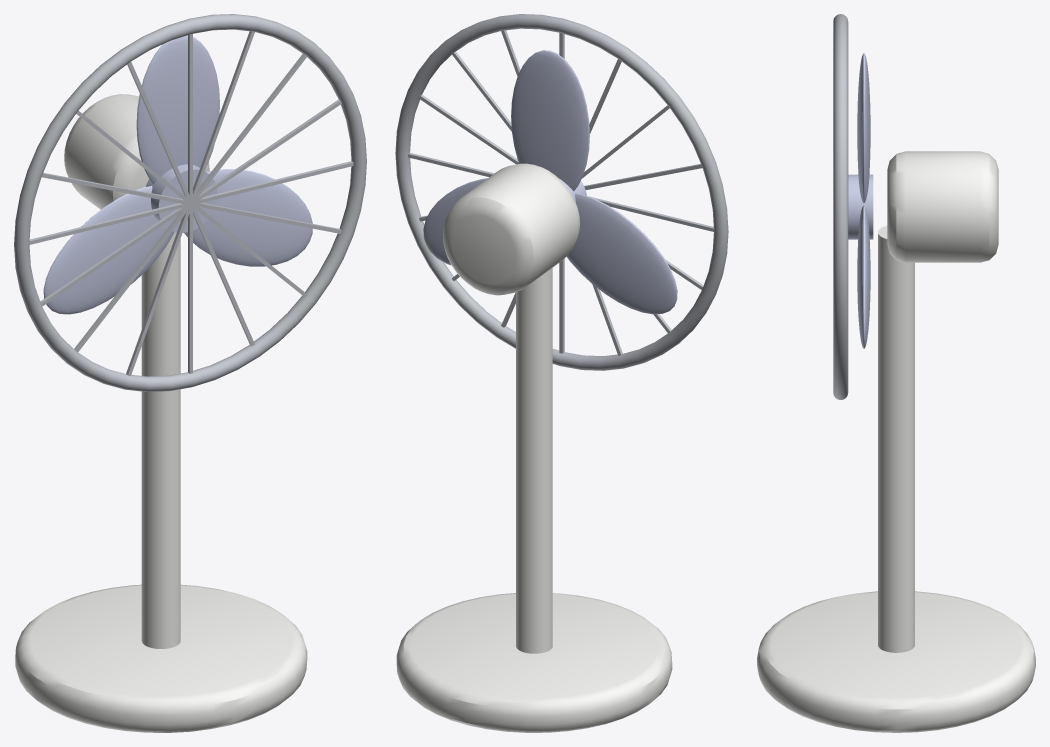
File: fan.glb
The picture shows the model from 3 angles, left to right: view 1: azimuth 30°, elevation 25°; view 2: azimuth 150°, elevation 25°; view 3: azimuth 270°, elevation 25°; orthographic projection. The views are drawn at different scales.
Visible parts, largest first — view 1: base.004, cage, pole.001, blade0, blade2, blade1, motor.001, wire2, wire1, wire3, wire4, wire0 (+4 smaller); view 2: base.004, cage, pole.001, motor.001, blade0, blade2, blade1, wire4, wire3, wire0, wire1, wire2 (+2 smaller); view 3: base.004, pole.001, motor.001, cage, blade0, blade1, hub.001.
Part boxes in pixels (x1,y1,x2,y2): base.004: (15,584,307,732); cage: (14,14,366,391); pole.001: (141,232,180,648); blade0: (136,35,219,183); blade2: (43,186,174,314); blade1: (184,169,312,266); motor.001: (64,94,209,209); wire2: (74,54,307,352); wire1: (126,31,254,375); wire3: (40,99,341,306); wire4: (29,161,353,244); wire0: (188,34,192,373); base.004: (396,593,672,732); cage: (395,14,728,370); pole.001: (516,268,552,653); motor.001: (442,163,579,295); blade0: (511,50,589,190); blade2: (566,193,677,314); blade1: (423,178,487,265); wire4: (408,153,713,231); wire3: (419,94,703,289); wire0: (559,32,564,353); wire1: (501,30,622,355); wire2: (452,51,671,333); base.004: (757,591,1035,732); pole.001: (878,225,914,652); motor.001: (887,151,998,262); cage: (833,14,848,399); blade0: (857,53,870,202); blade1: (857,205,870,348); hub.001: (848,174,873,239).
Size of the model in its own units: 0.416 by 0.768 by 0.3.
